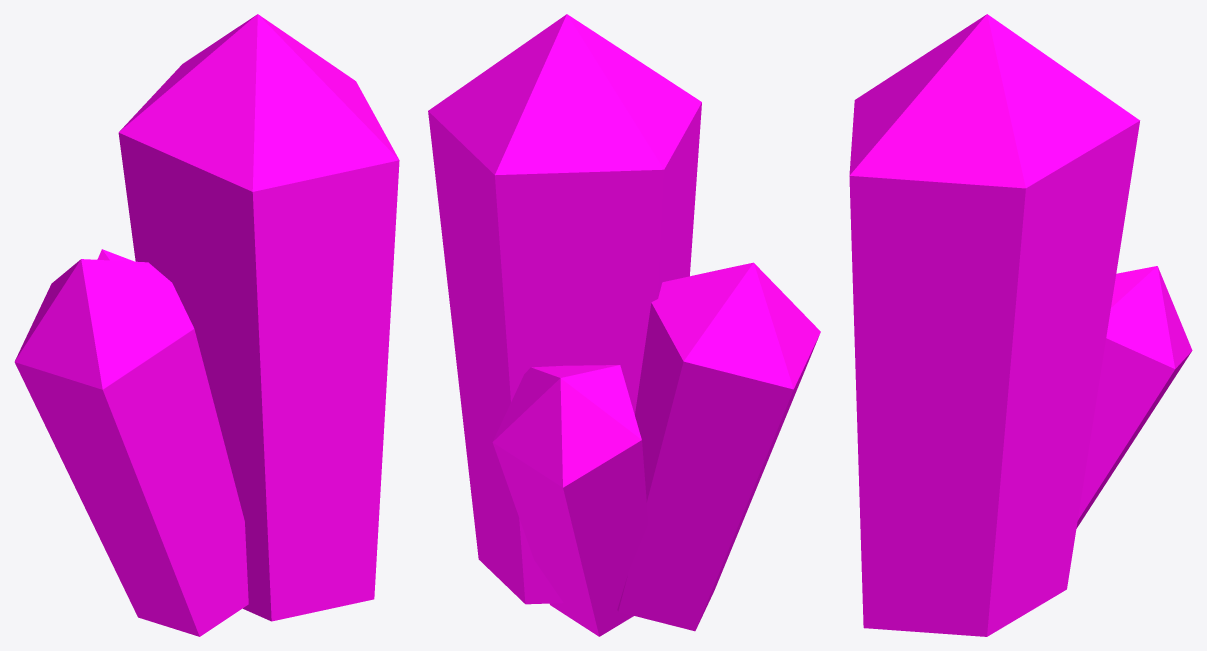
Rendered from pink crystal.gltf.
3 renders of one model, left to right at view 1: azimuth 30°, elevation 25°; view 2: azimuth 150°, elevation 25°; view 3: azimuth 270°, elevation 25°, orthographic. The views are drawn at different scales.
Parts seen in each view (by area): view 1: Circle.002; view 2: Circle.002; view 3: Circle.002.
Part boxes in pixels (x1=…): Circle.002: x1=14, y1=14, x2=399, y2=636; Circle.002: x1=428, y1=14, x2=820, y2=636; Circle.002: x1=849, y1=14, x2=1192, y2=636.
Bounding box in the file's own units: 3.22 × 5.07 × 2.61.
